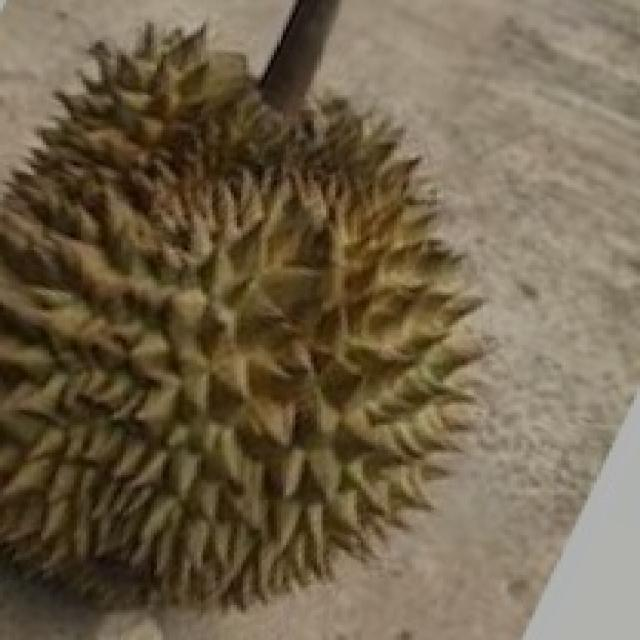fruit: (0, 260, 369, 640)
